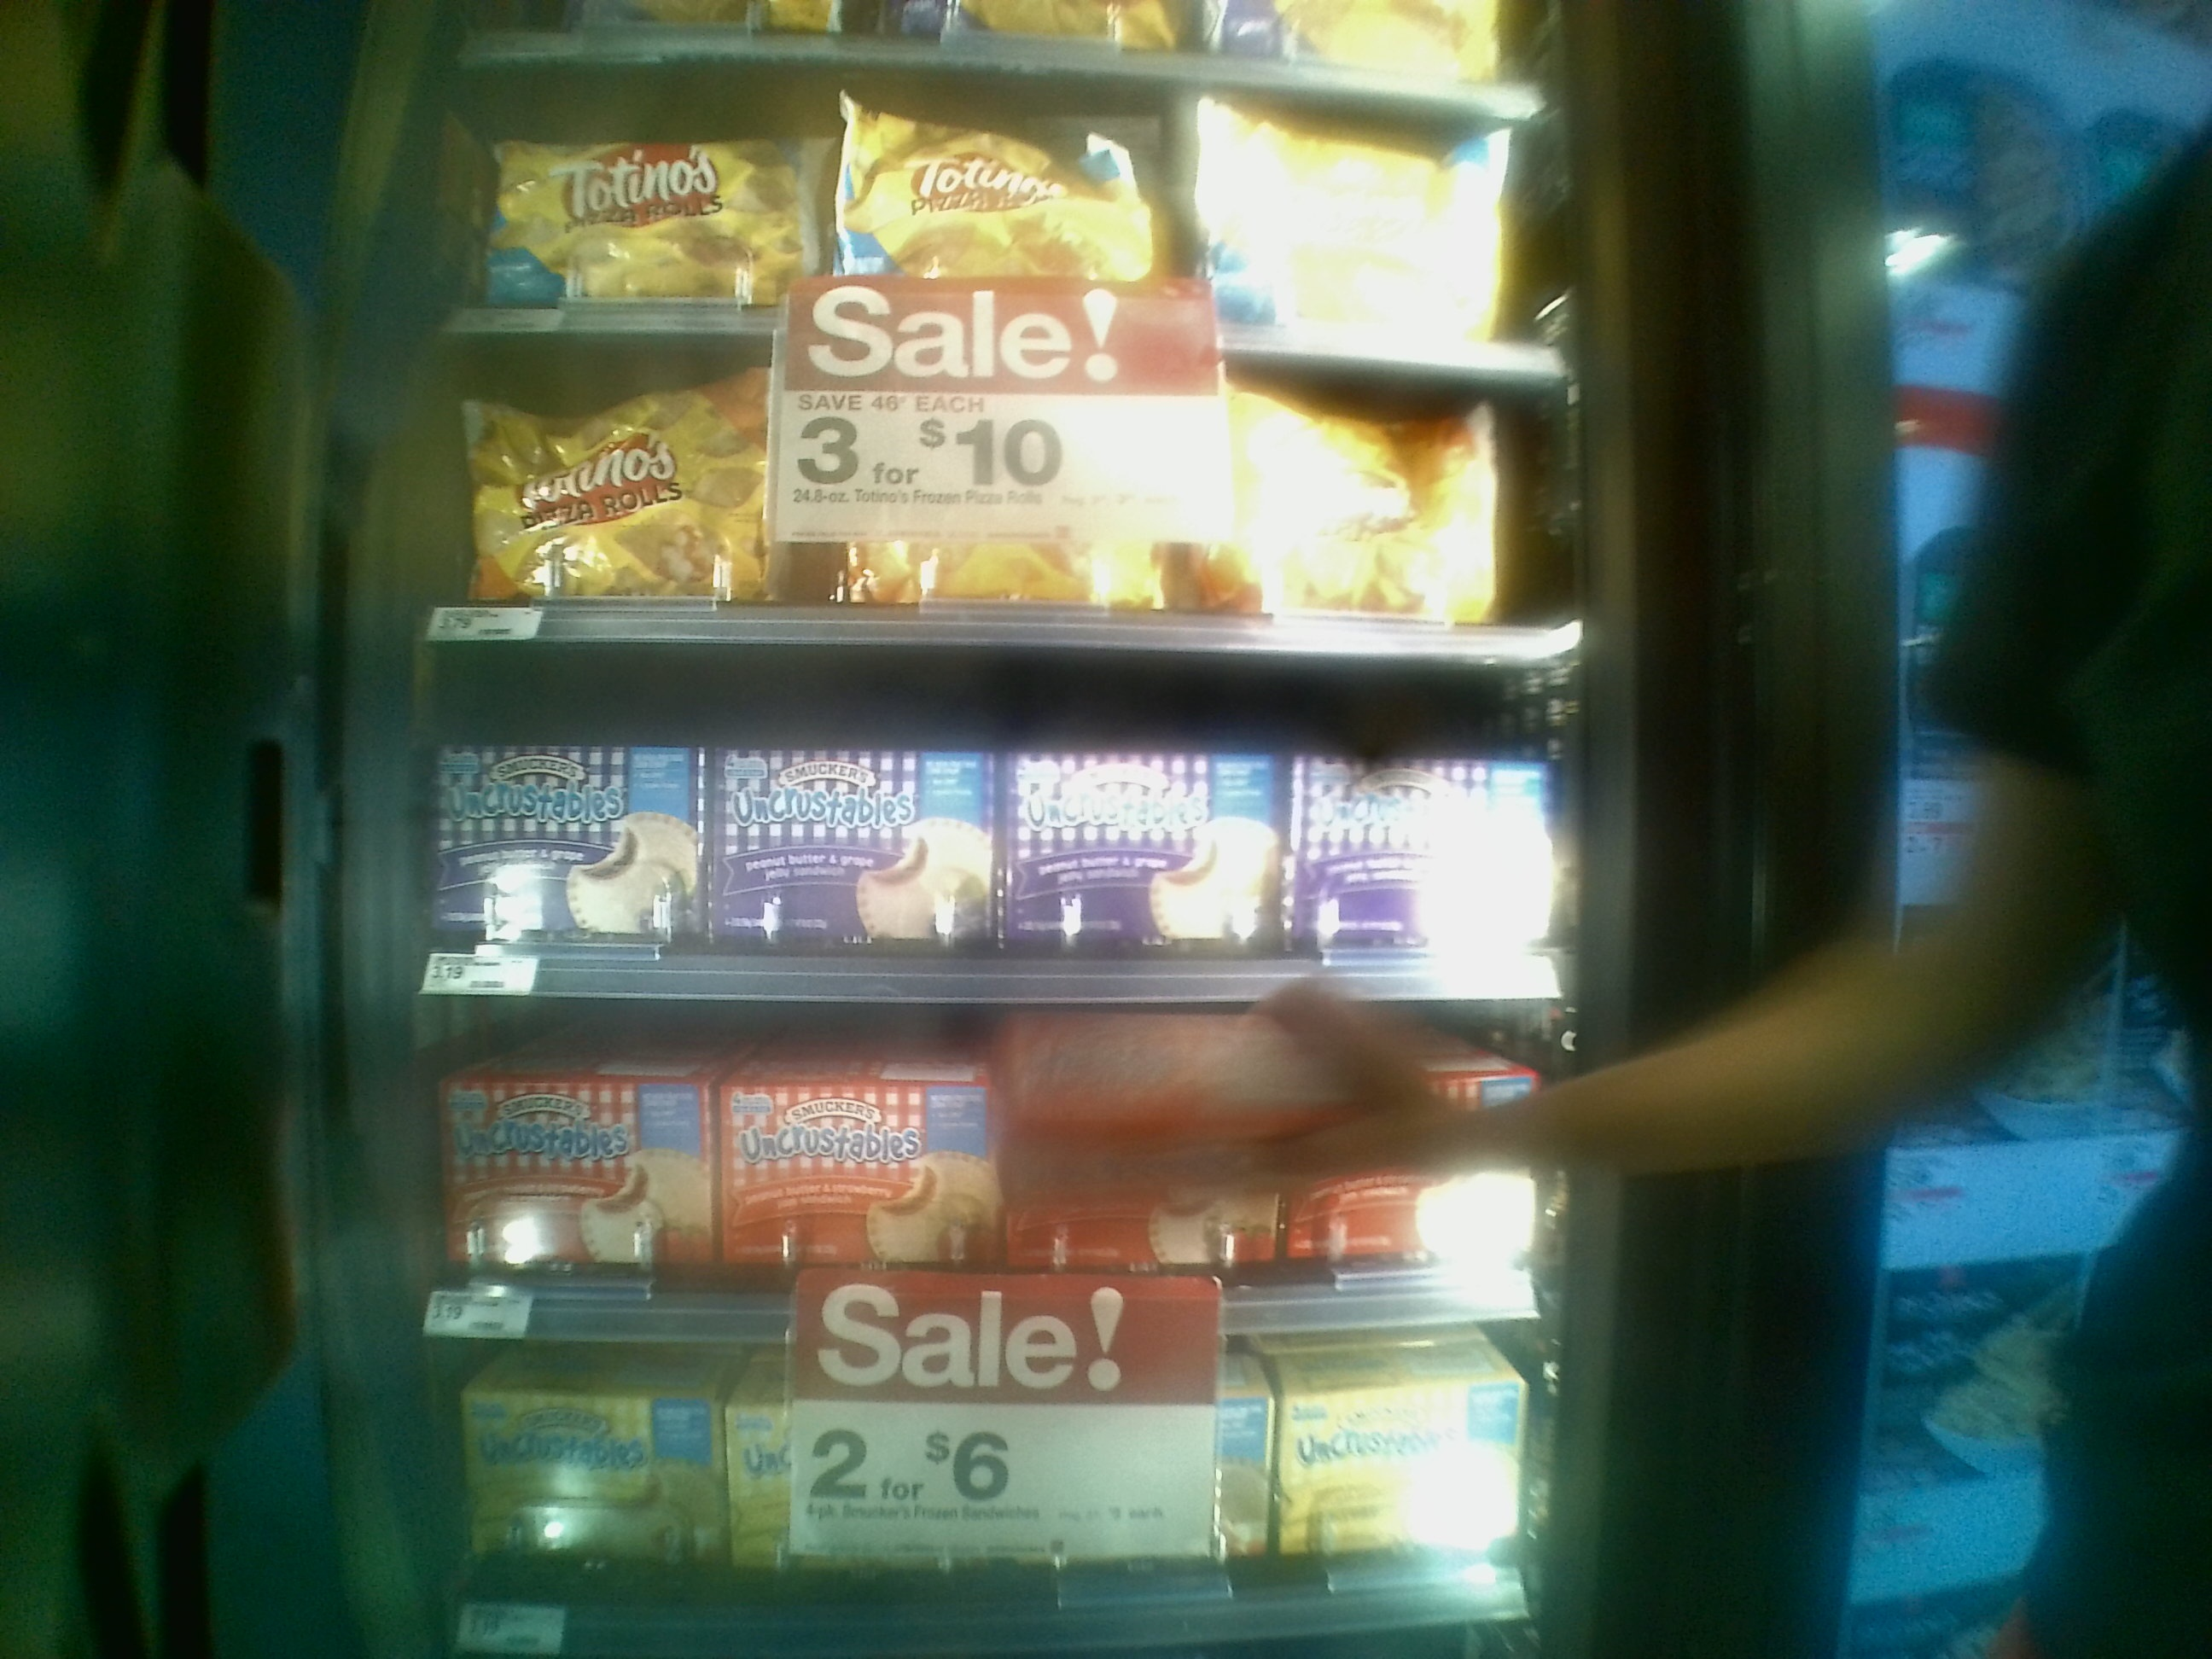shelf: (347, 634, 1573, 1002), (406, 314, 1575, 659)
